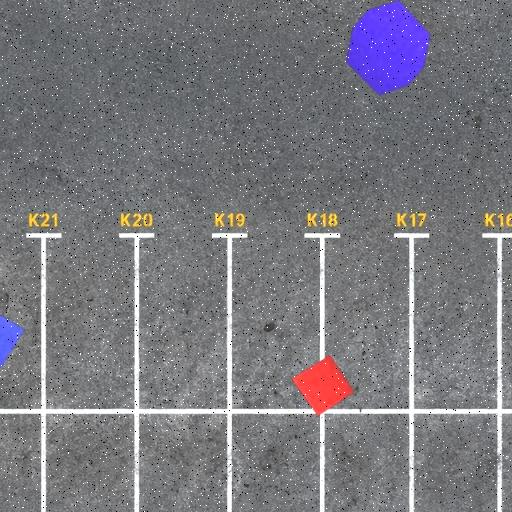RED_SQUARE: (290, 354, 356, 417)
